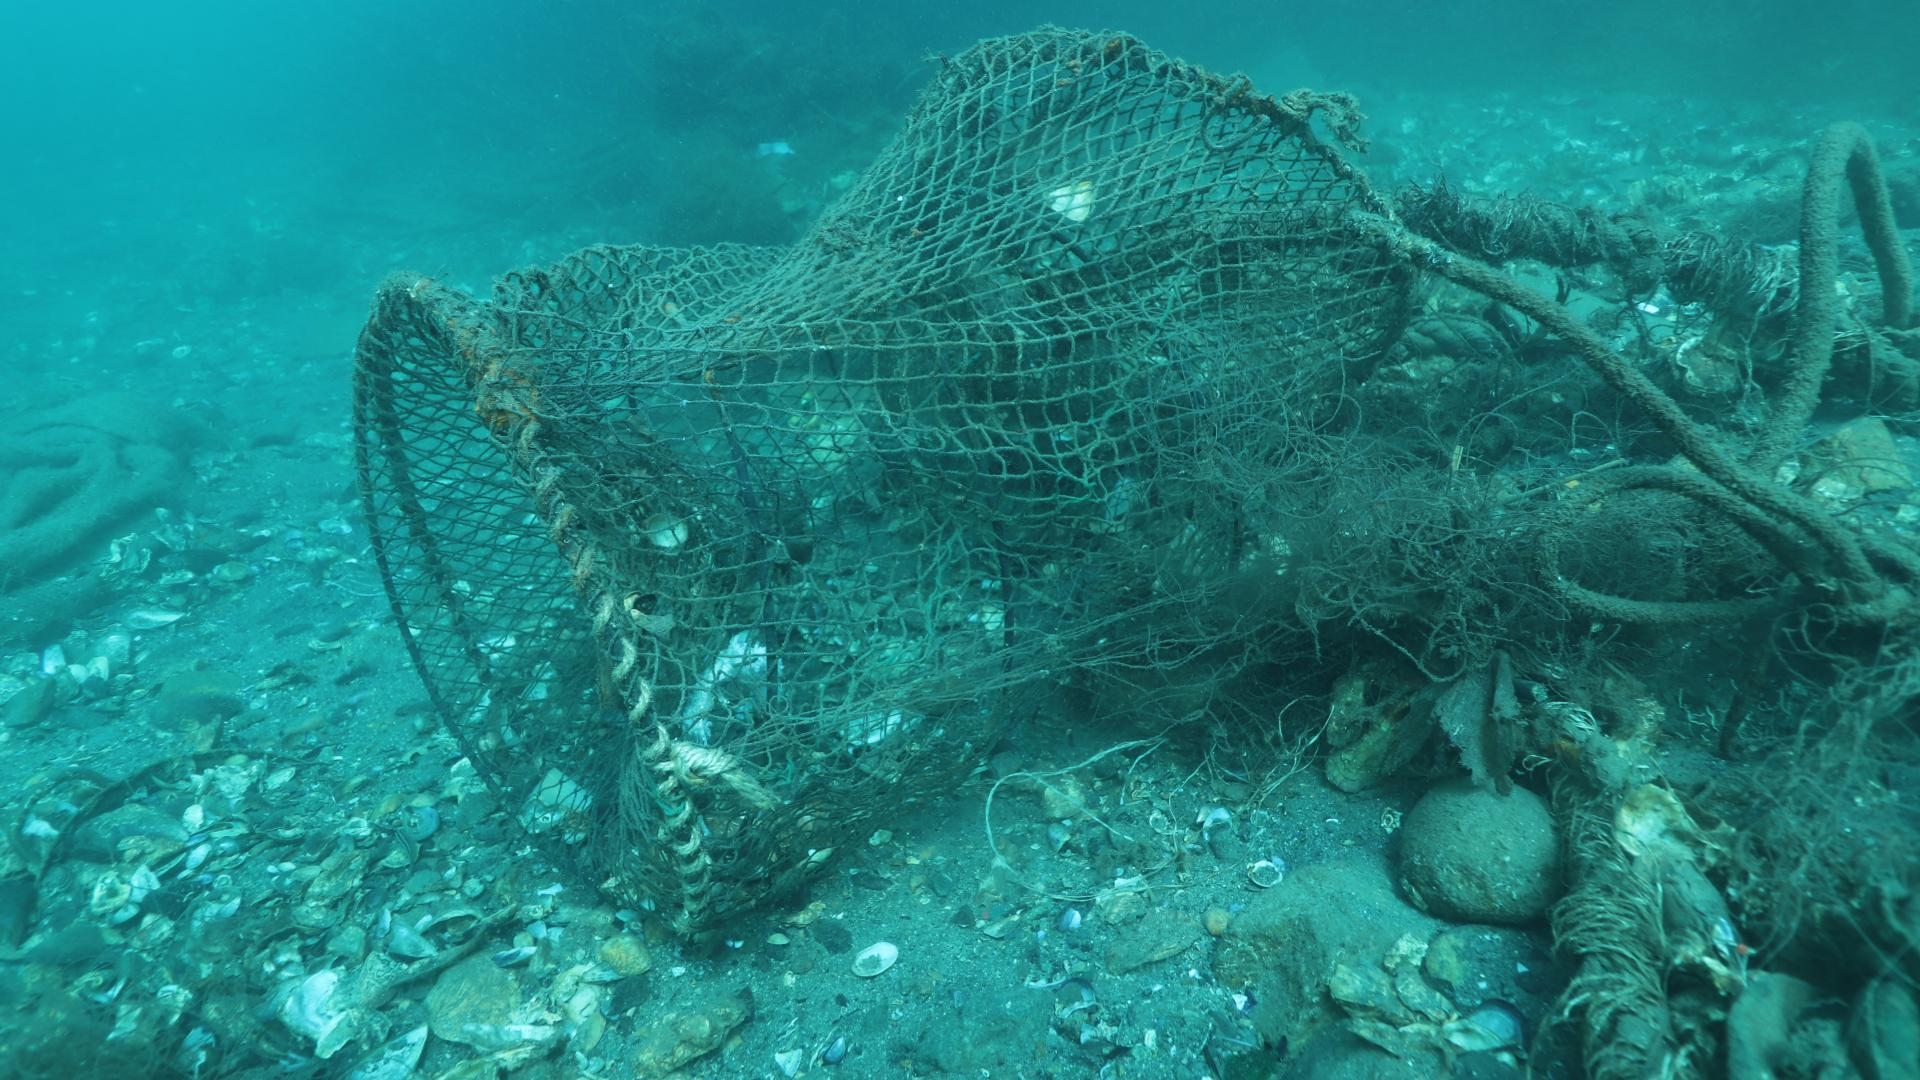bundle of ropes: (1278, 86, 1348, 121)
rope: (1389, 313, 1494, 361)
spring fish trap: (349, 26, 1418, 936)
